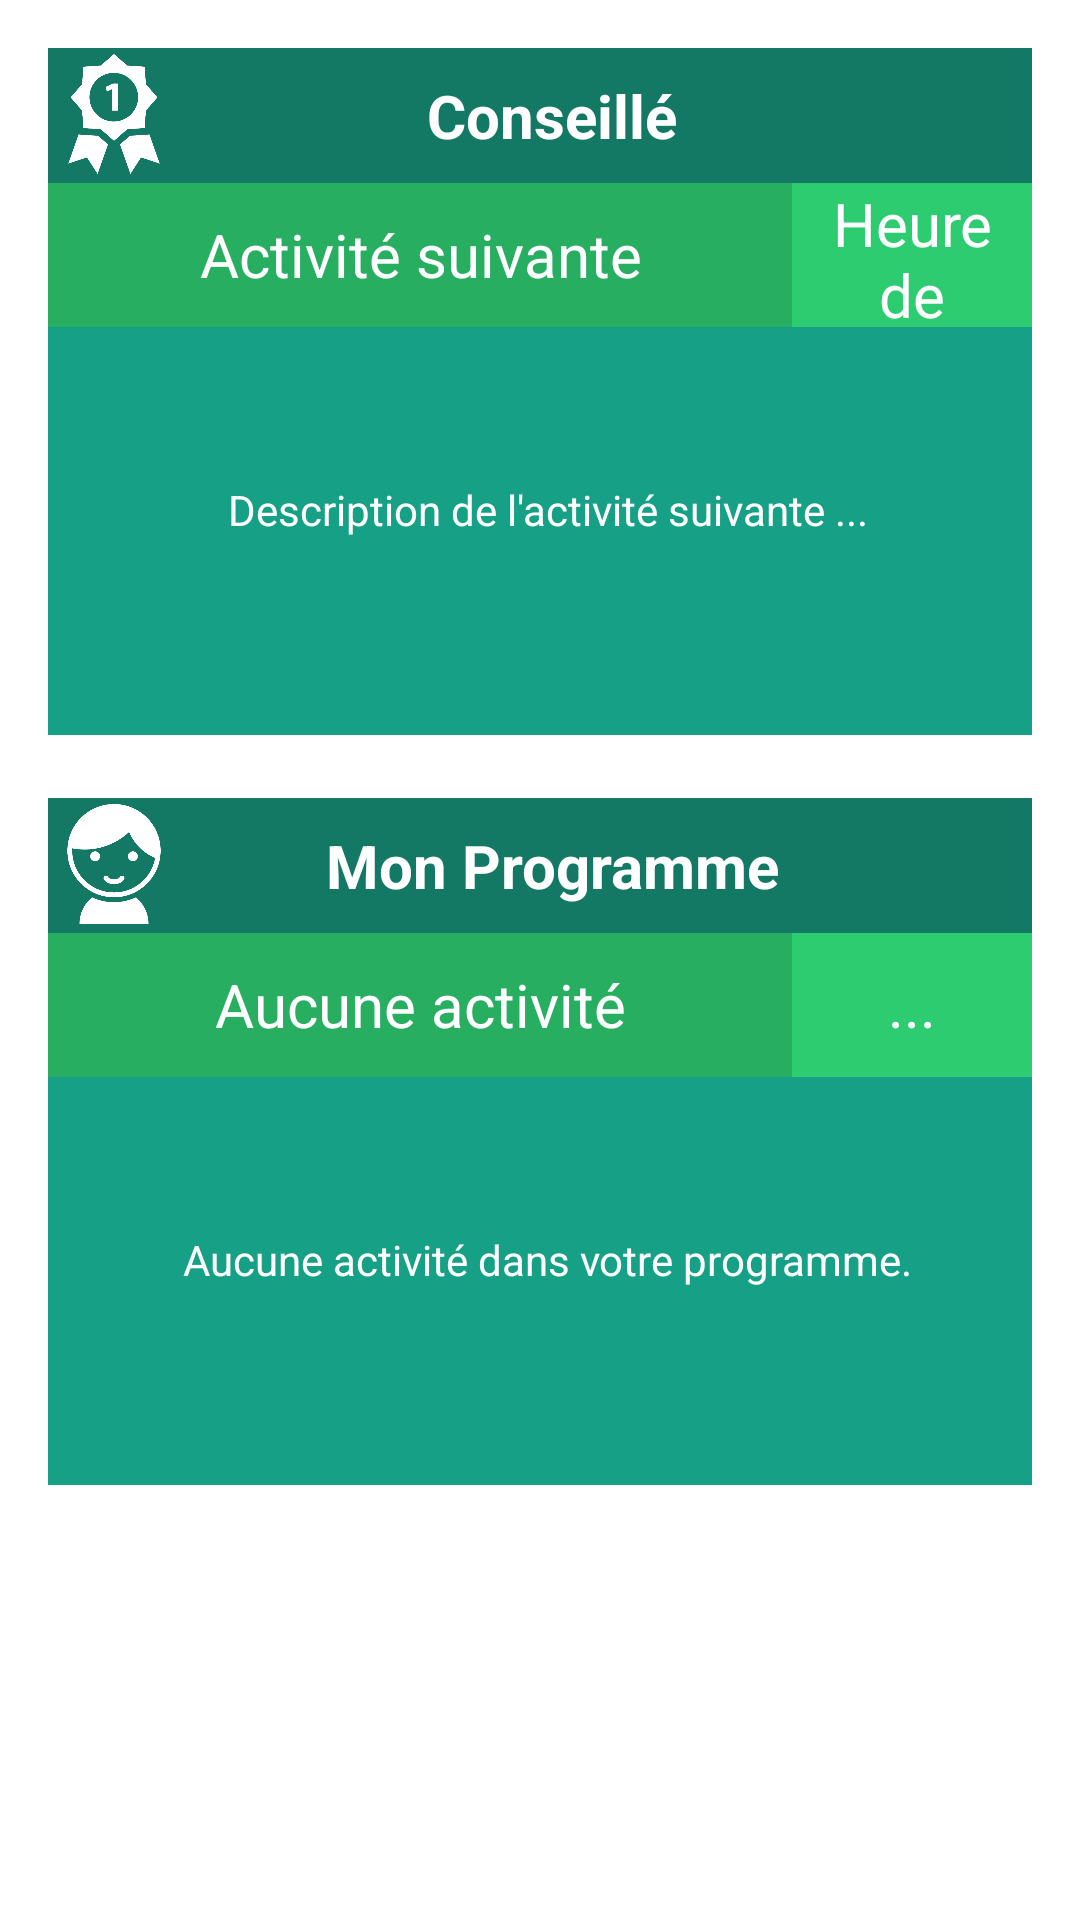

Icons on this 1080 x 1920 Android screen, each with the point to tap as (x=x, y=y):
best: (x=114, y=114)
boy: (x=114, y=864)
